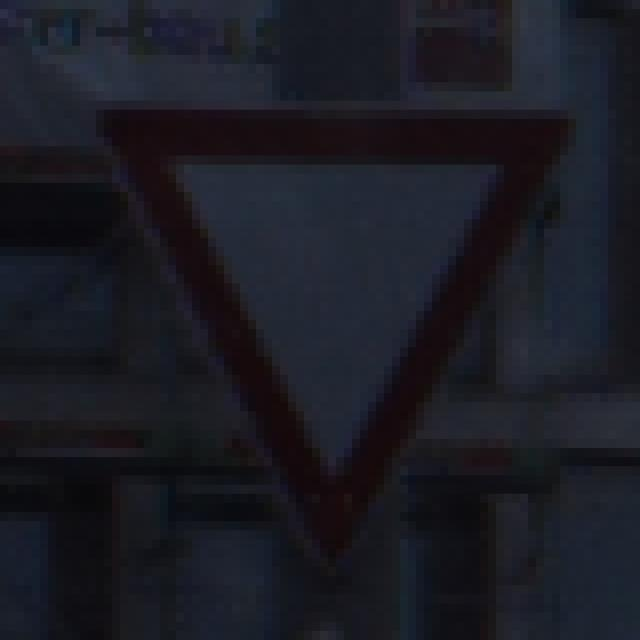give way: (73, 84, 583, 580)
